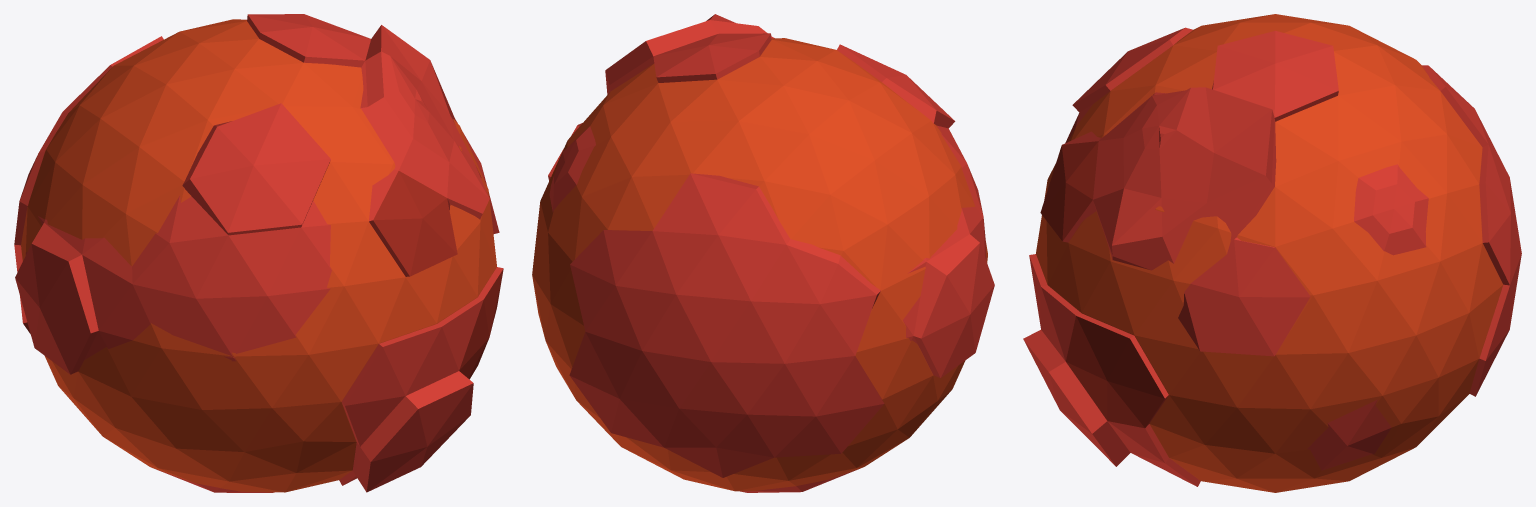
The model's file is mars.glb.
3 views of the same model, side by side, from view 1: azimuth 30°, elevation 25°; view 2: azimuth 150°, elevation 25°; view 3: azimuth 270°, elevation 25° (orthographic). The views are drawn at different scales.
Parts seen in each view (by area): view 1: mar, montañas; view 2: montañas, mar; view 3: mar, montañas.
Boxes of the visible parts, x1,y1,x2,y2 form: mar: (21, 19, 496, 492); montañas: (14, 14, 503, 492); montañas: (548, 14, 994, 492); mar: (532, 38, 987, 491); mar: (1036, 14, 1503, 492); montañas: (1023, 27, 1521, 486).
Size of the model in its own units: 2.12 by 2.07 by 2.11.
